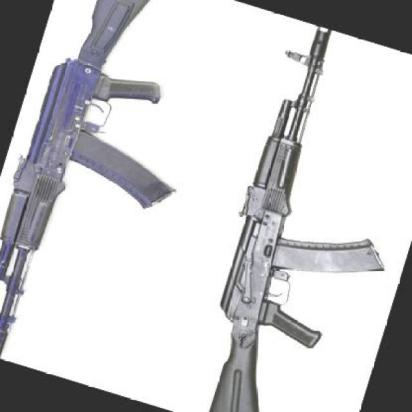Gun: (141, 7, 412, 412), (0, 0, 241, 395)
